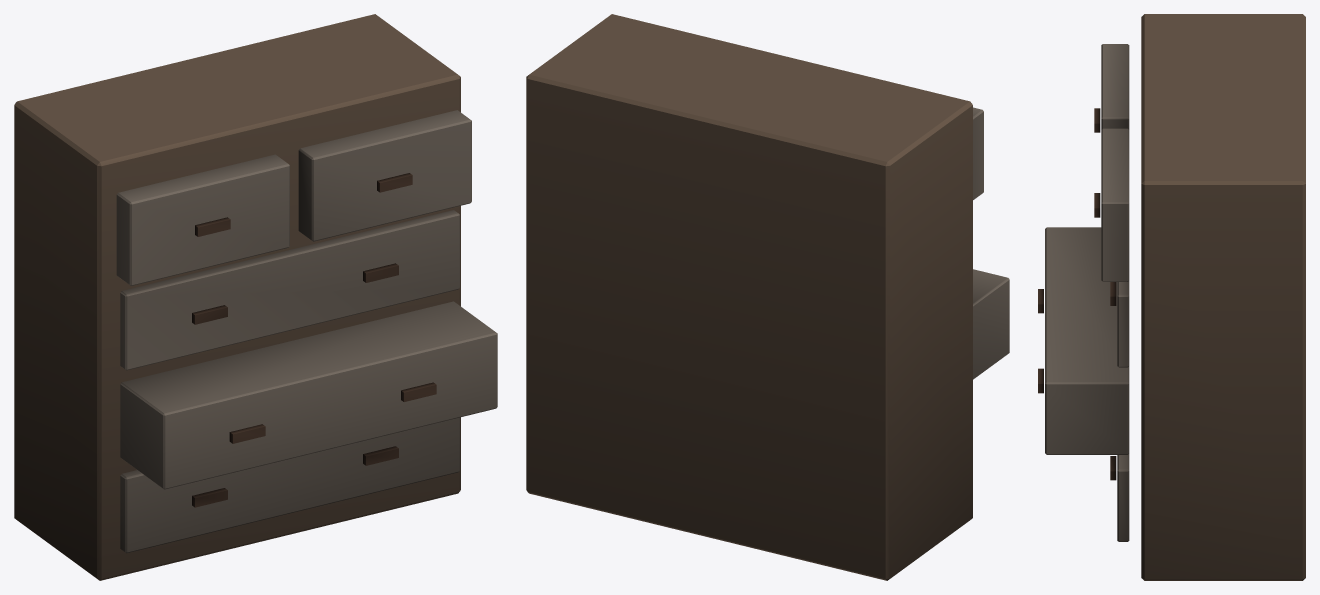
The model's file is prop.tansu.glb.
3 renders of one model, left to right at view 1: azimuth 30°, elevation 25°; view 2: azimuth 150°, elevation 25°; view 3: azimuth 270°, elevation 25°, orthographic. The views are drawn at different scales.
Visible parts, largest first — view 1: LOD0; view 2: LOD0; view 3: LOD0.
Part boxes in pixels (x1=…): LOD0: x1=14, y1=14, x2=497, y2=580; LOD0: x1=526, y1=14, x2=1009, y2=580; LOD0: x1=1038, y1=14, x2=1305, y2=580.
Size of what is drawn, in the model's own units: 1 by 1.1 by 0.6675.
